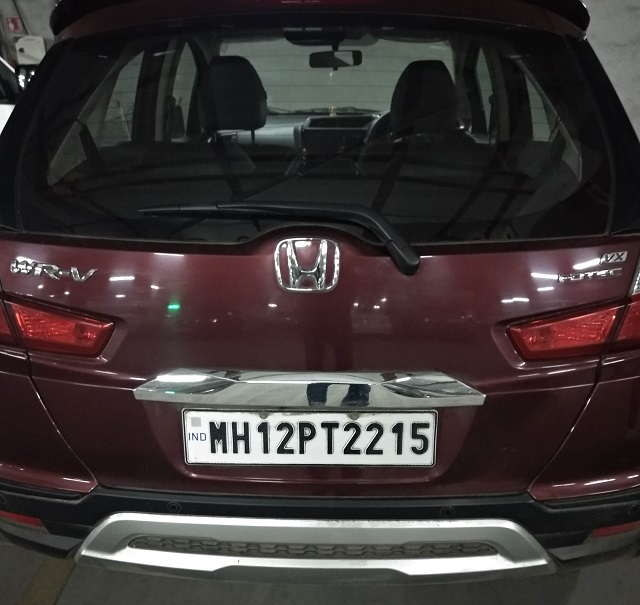licenseplate: (181, 406, 437, 472)
